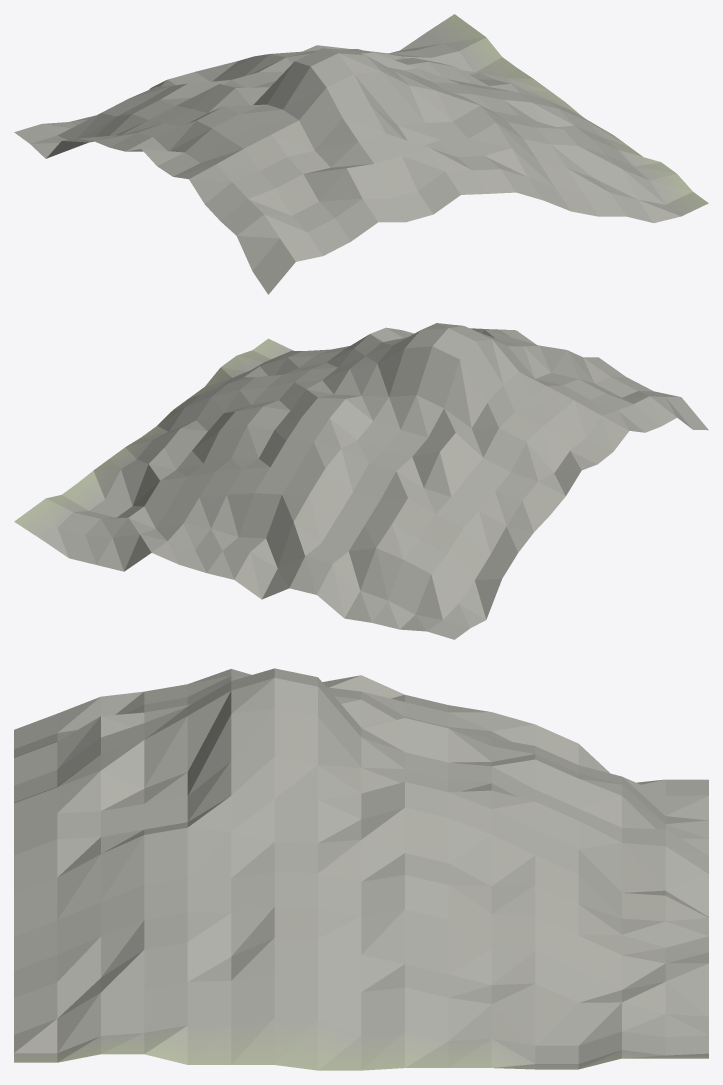
The picture shows the model from 3 angles, top to bottom: view 1: azimuth 30°, elevation 25°; view 2: azimuth 150°, elevation 25°; view 3: azimuth 270°, elevation 25°; orthographic projection. The views are drawn at different scales.
Size of the model in its own units: 32 by 11.63 by 32.
